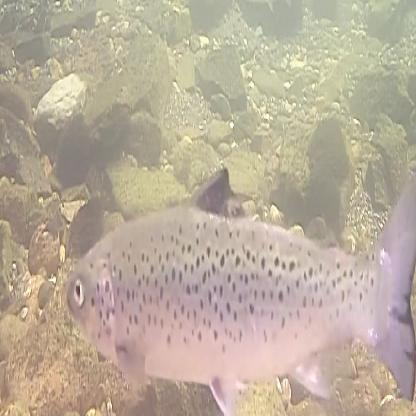salmon: (64, 148, 416, 415)
